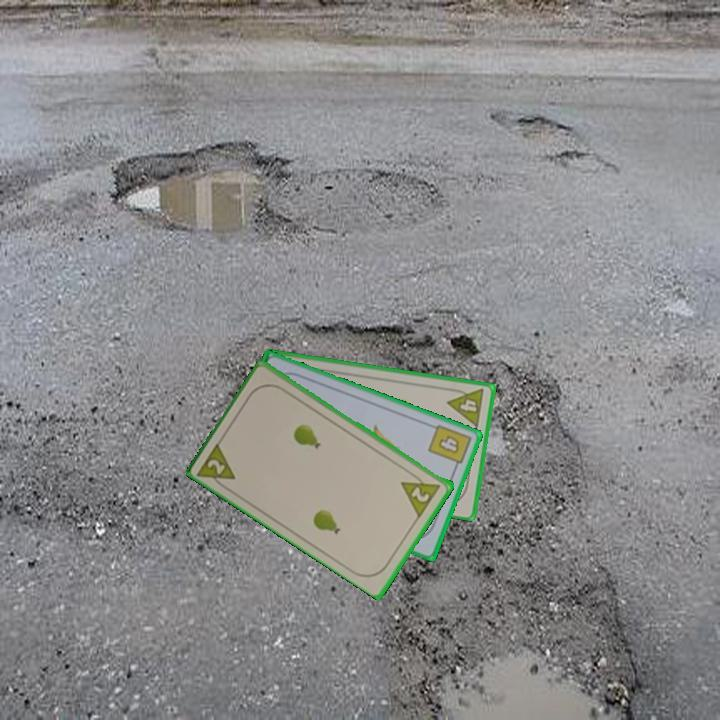2p: (194, 438, 239, 493), (408, 483, 433, 505)
4b: (425, 421, 474, 473)
4p: (444, 384, 487, 430)
